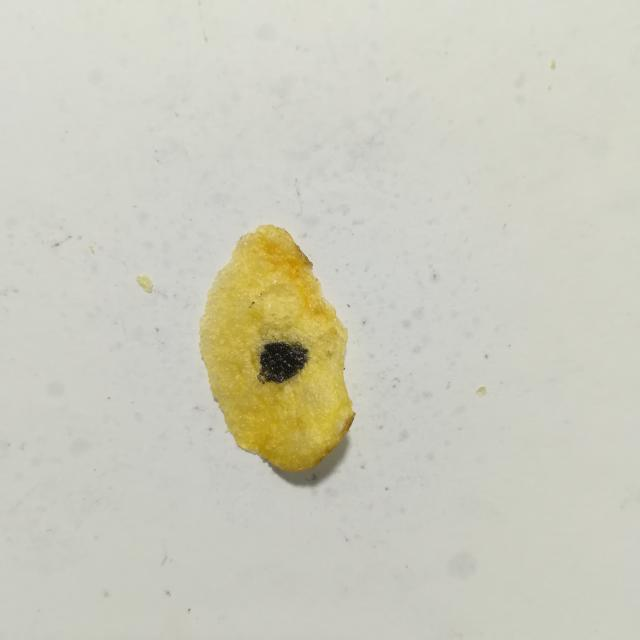chip: (200, 225, 354, 471)
damaged: (258, 342, 308, 383)
semi-damaged: (255, 327, 316, 356)
